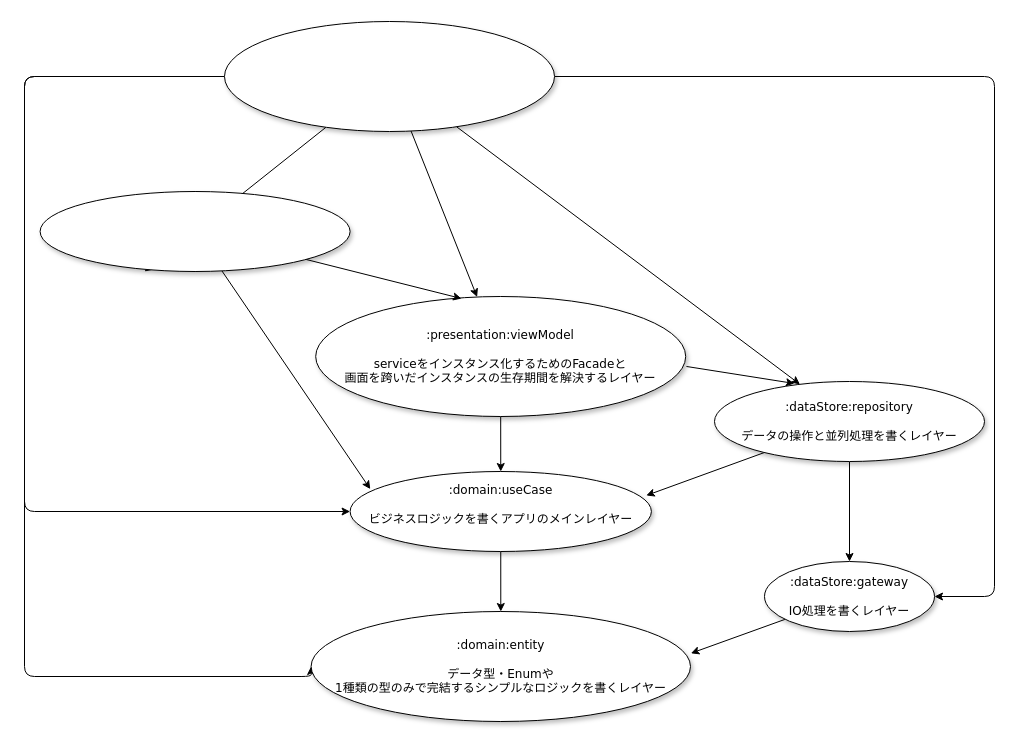
The diagram is 1020 pixels wide and 746 high, and some of its shapes have lost their labels. The shapes that lost their labels are listed below. From the top down, each one's centre as x and y in pixels, then its label:
(390,77): :app 全てのモジュールを知るレイヤー DI・ディープリンク・プッシュ通知などの レイヤー/ドメインを横断するロジックを書く
(195,232): :presentation:view レイアウト・アニメーション・ナビゲーション 端末依存について書くレイヤー
